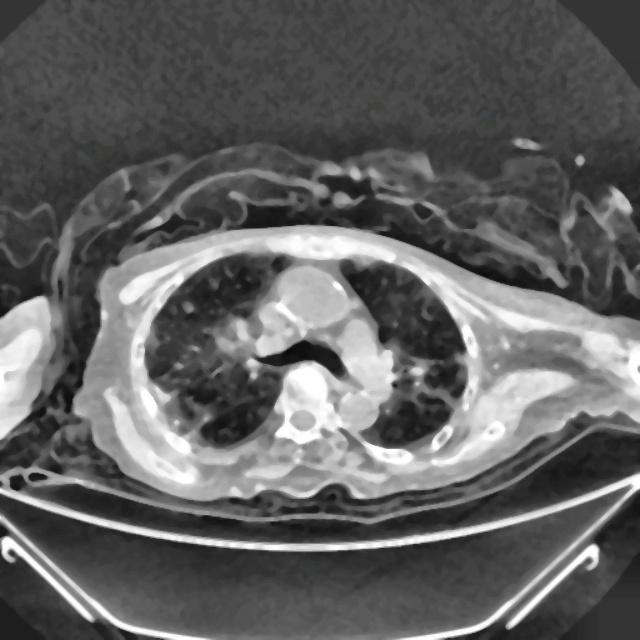covid: (68, 221, 638, 514)
